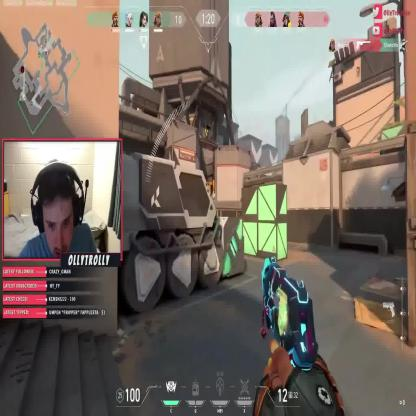enemy: (212, 190, 216, 203)
enemy_head: (212, 191, 214, 194)
